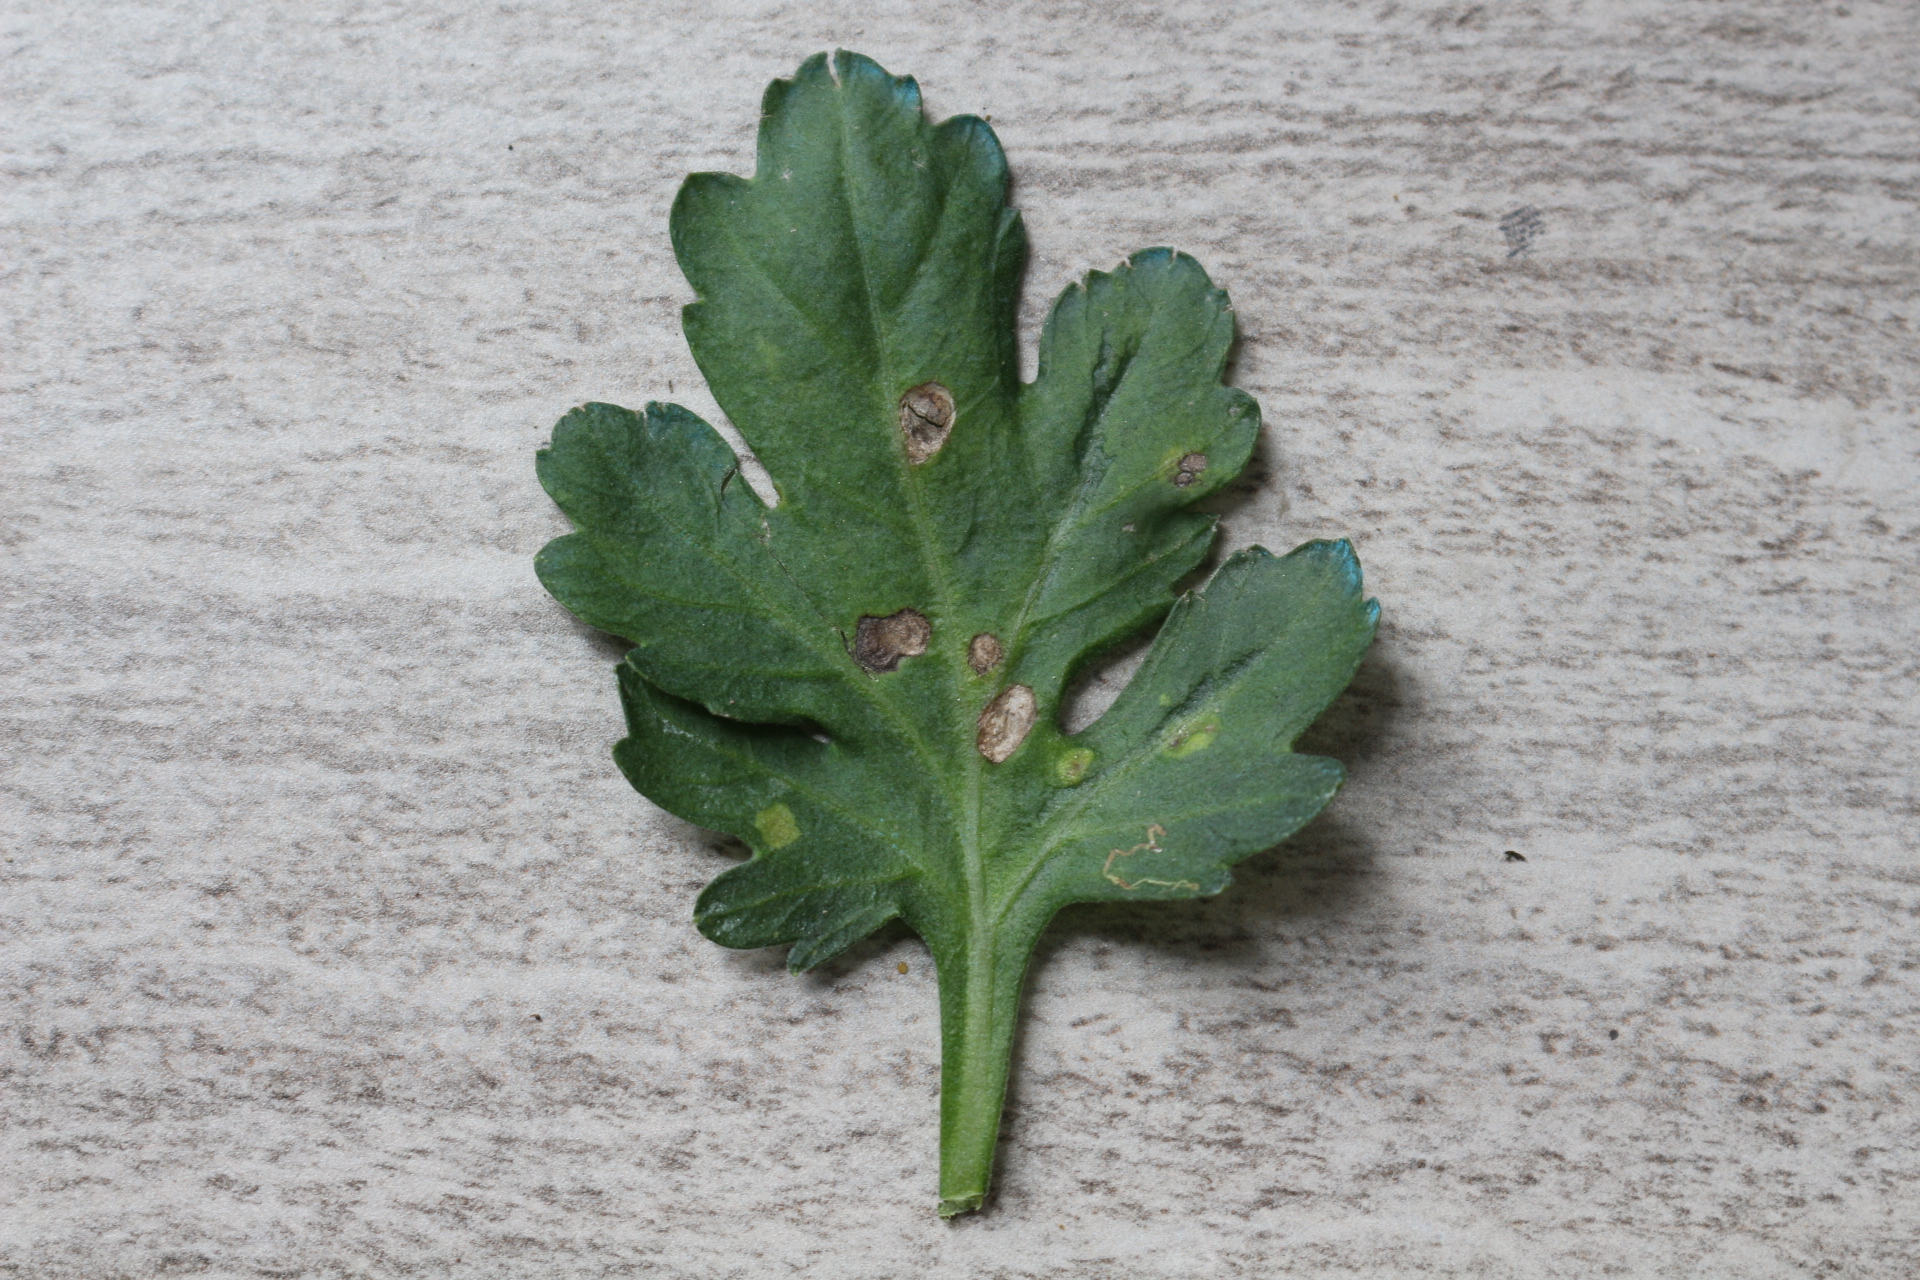namden: (886, 379, 969, 466), (850, 600, 931, 671), (980, 686, 1034, 766), (959, 624, 1009, 681), (1163, 446, 1211, 496)
namsung: (747, 806, 803, 853), (1049, 749, 1097, 789)
